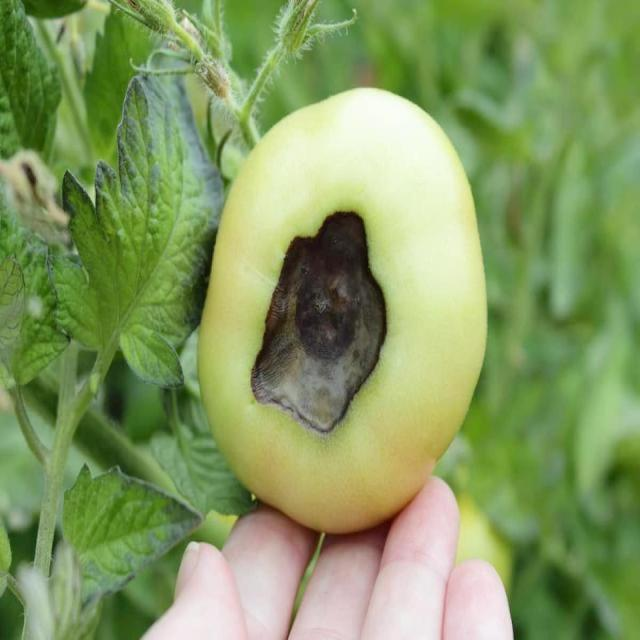Blossom End Rot Fruit: (165, 137, 261, 292)
